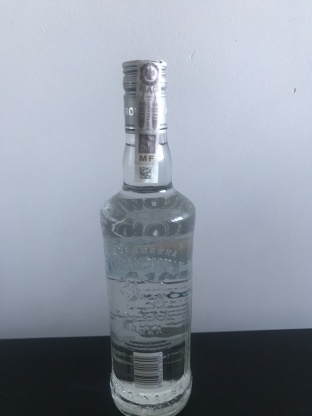nakretka: (120, 57, 170, 135)
